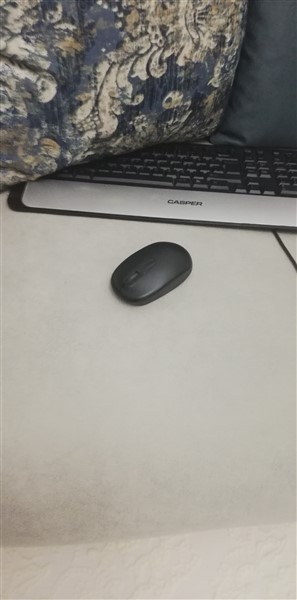klavye: (7, 120, 297, 236)
mouse: (110, 238, 194, 309)
